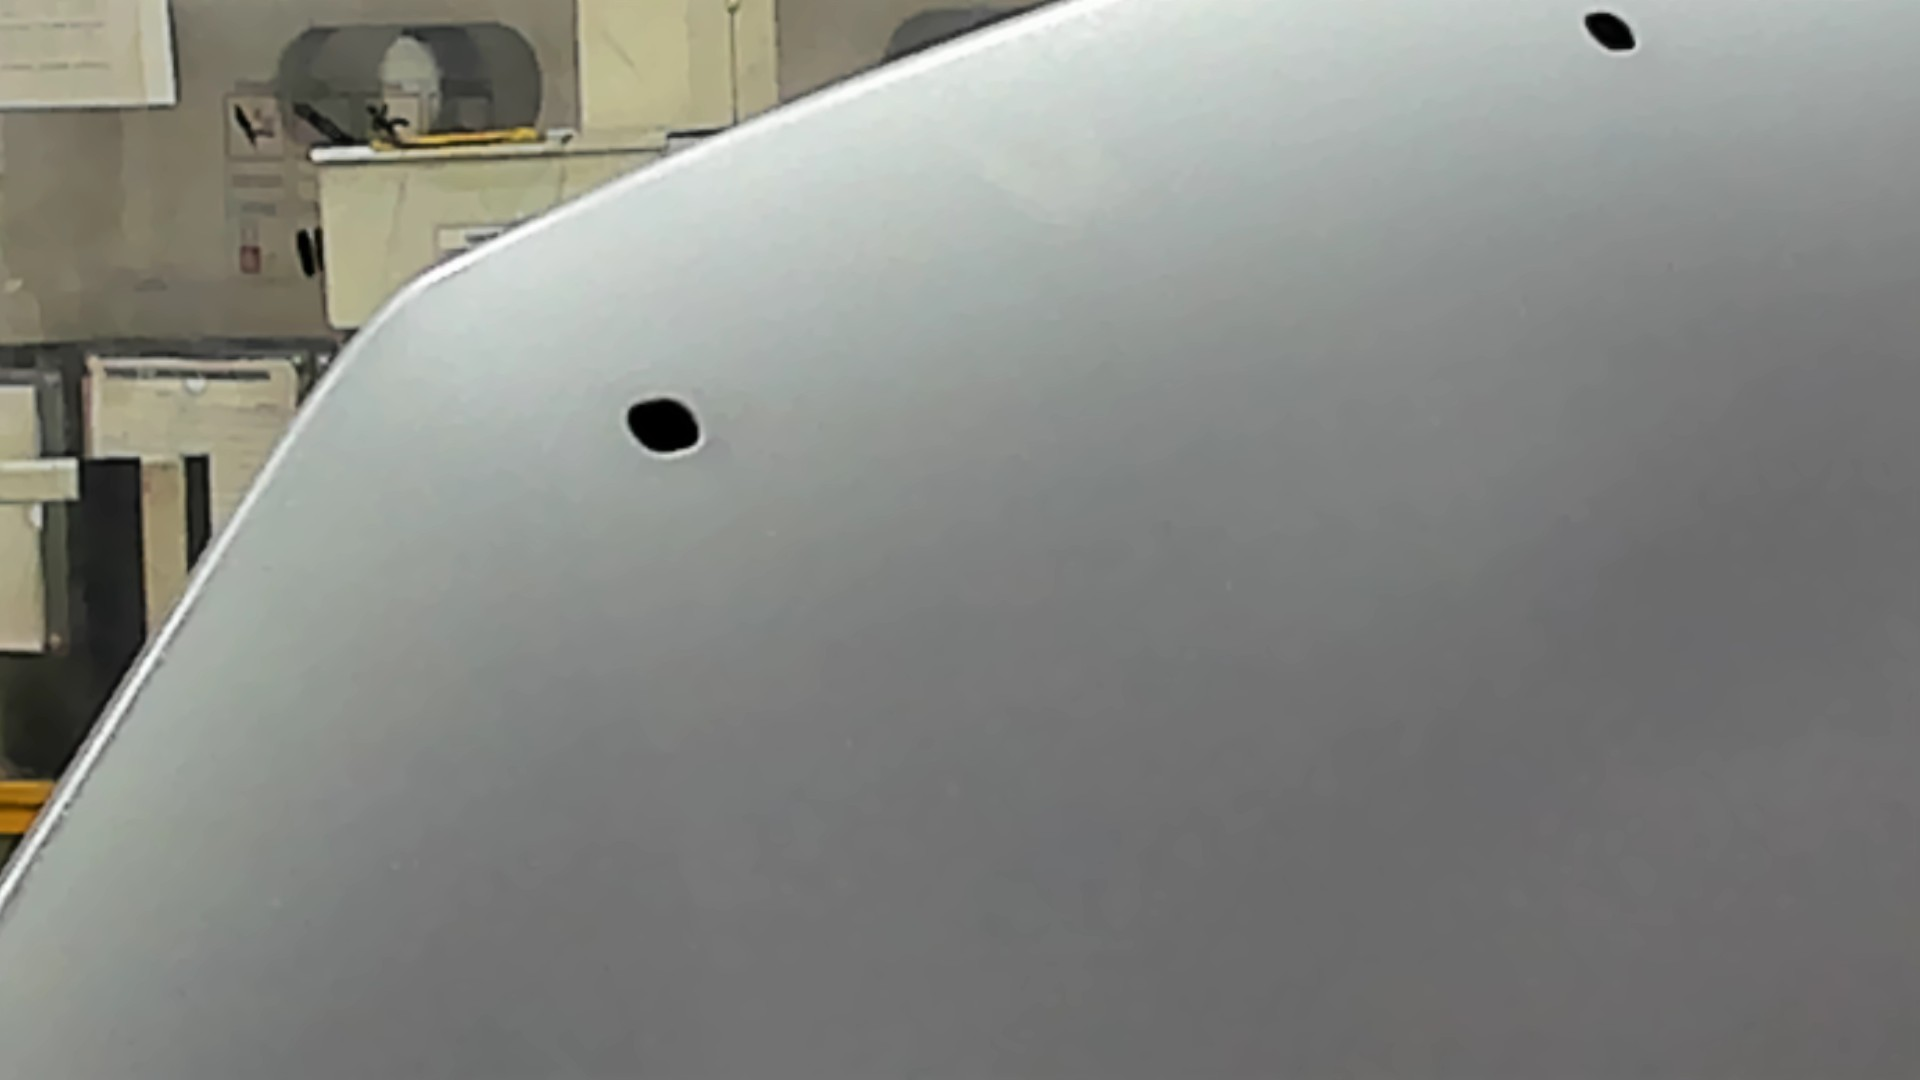Agujero: (622, 397, 704, 458), (1578, 11, 1639, 55)
